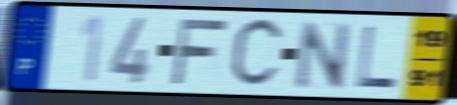1: (79, 13, 106, 85)
4: (106, 15, 152, 86)
C: (227, 14, 288, 93)
F: (168, 16, 231, 86)
L: (353, 23, 398, 91)
N: (293, 19, 354, 92)
